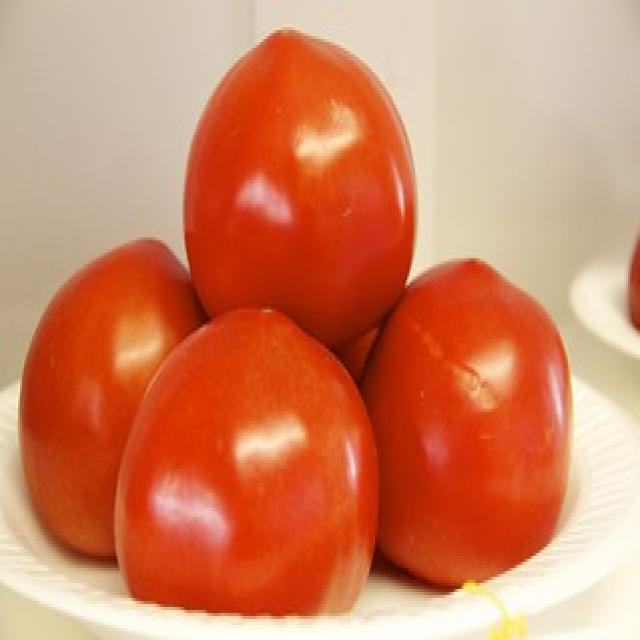Tomato: (112, 306, 379, 622), (362, 250, 574, 600), (183, 27, 419, 330), (17, 235, 209, 566)
